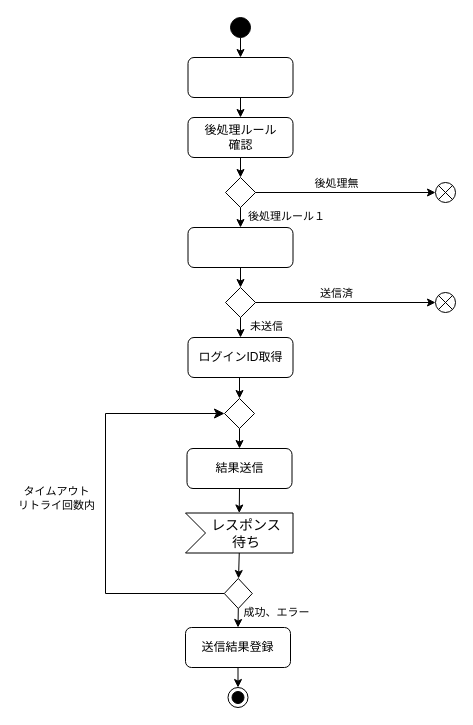
The diagram is 473 pixels wide and 725 high, and some of its shapes have lost their labels. Each missing label, with the box of its shape:
スコア取得: (187, 56, 293, 98)
送信済でないか 確認: (187, 226, 293, 268)
